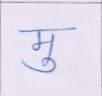u_matra: (21, 55, 61, 74)
